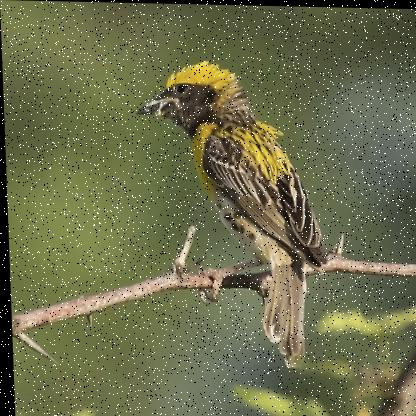Burung: (132, 58, 327, 367)
